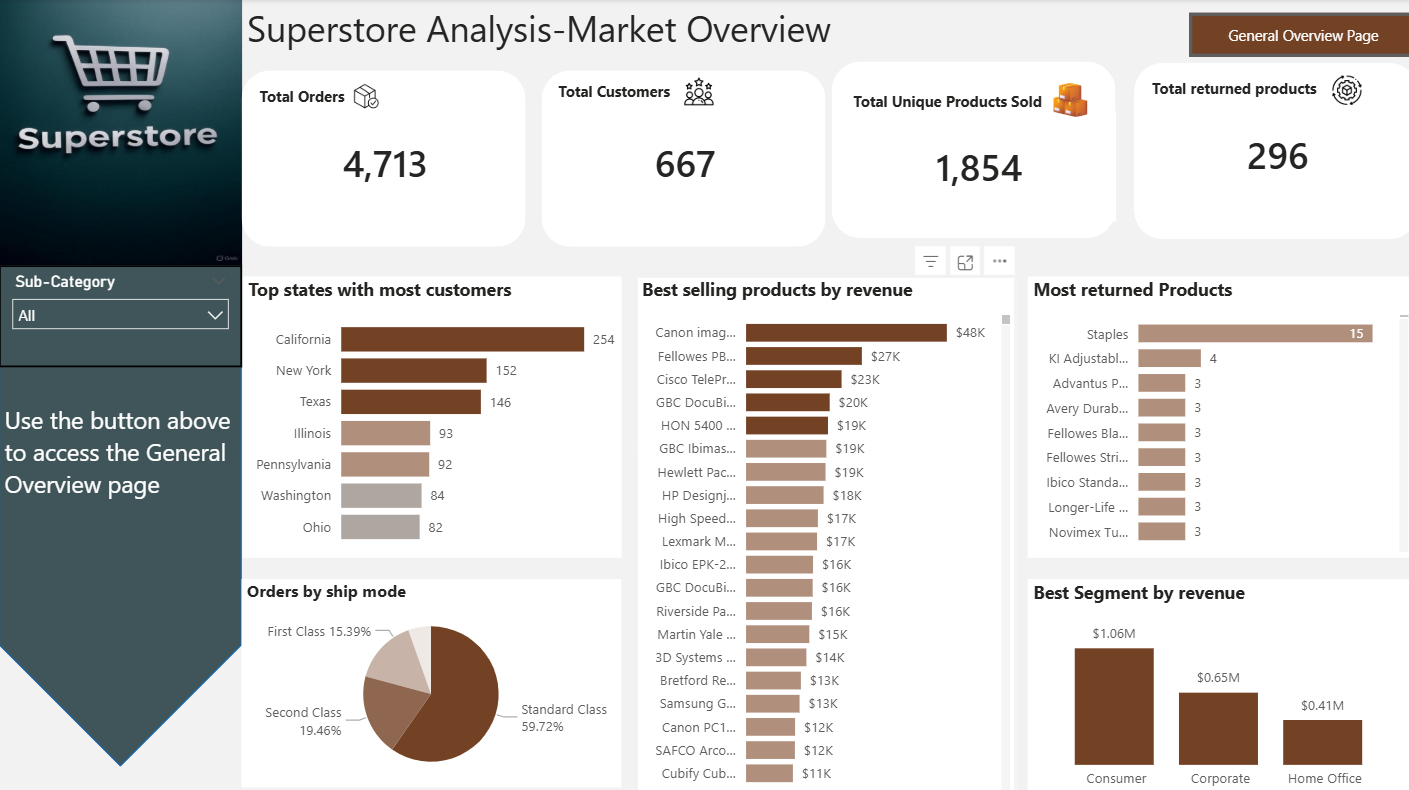

The page's visual inventory and layout, read from the dashboard file:
{"tool":"powerbi","page":{"name":"Market Analysis","canvas":[1280,720],"ordinal":1},"visuals":[{"type":"group","id":"g1","title":"Group 3","box":[0,0,218.6,691.9],"z":0},{"type":"shape","box":[0,0,218.9,692.2],"z":1000,"group":"g1"},{"type":"textbox","box":[218.6,0,557,65.1],"z":1000},{"type":"shape","box":[750.3,56.7,256.3,159.2],"z":2000,"group":"g3"},{"type":"shape","box":[1023.8,57.2,256.3,159.2],"z":2000,"group":"g5"},{"type":"group","id":"g2","title":"Group 1","box":[218.9,64.7,256.3,159.2],"z":2000},{"type":"shape","box":[218.9,64.7,256.3,159.2],"z":2000,"group":"g2"},{"type":"shape","box":[488.9,64.7,256.3,159.2],"z":2000,"group":"g4"},{"type":"group","id":"g3","title":"Group 1","box":[750.3,56.7,256.4,159.2],"z":3000},{"type":"group","id":"g4","title":"Group 1","box":[488.9,64.7,256.3,159.2],"z":4000},{"type":"actionButton","box":[1073.5,12.4,206.5,39.8],"z":5000},{"type":"image","box":[0,0,218.9,240],"z":5001,"group":"g1"},{"type":"textbox","box":[1035.4,66.4,205.3,41.1],"z":6000,"group":"g5"},{"type":"textbox","box":[499.2,69.6,142,45.1],"z":6000,"group":"g4"},{"type":"textbox","box":[230.1,73.4,107,41.1],"z":6000,"group":"g2"},{"type":"textbox","box":[765.5,77.6,205.3,41.1],"z":6000,"group":"g3"},{"type":"clusteredBarChart","title":"Top states with most customers","fields":{"Category":["Orders.State"],"Y":["Orders.Net Customers YTD"]},"box":[219.6,249.7,341.7,253.9],"z":6000},{"type":"card","fields":{"Values":["Orders.Total Returns"]},"box":[1030.4,90.9,246.3,99.5],"z":7000,"group":"g5"},{"type":"card","fields":{"Values":["Orders.Total Orders"]},"box":[225.5,98.4,246.3,99.5],"z":7000,"group":"g2"},{"type":"card","fields":{"Values":["Orders.Net Customers YTD"]},"box":[495.5,98.4,246.3,99.5],"z":7000,"group":"g4"},{"type":"card","fields":{"Values":["Orders.Total Products"]},"box":[760.4,102.1,246.3,99.5],"z":7000,"group":"g3"},{"type":"slicer","fields":{"Values":["Orders.Sub-Category"]},"box":[0,240.1,218.9,92.1],"z":7000},{"type":"clusteredBarChart","title":"Best selling products by revenue","fields":{"Y":["Orders.Net Sales TY"],"Category":["Orders.Product Name"]},"box":[574.7,250,342.1,470.2],"z":8000},{"type":"group","id":"g5","title":"Group 1","box":[1023.8,57.2,256.3,159.2],"z":9000},{"type":"pieChart","title":"Orders by ship mode","fields":{"Category":["Orders.Ship Mode"],"Y":["CountNonNull(Orders.Order ID)"]},"box":[218.9,522.5,342.1,187.8],"z":10000},{"type":"clusteredBarChart","title":"Most returned Products","fields":{"Category":["Orders.Product Name"],"Y":["Orders.Total Returns"]},"box":[928,250,348.3,253.8],"z":11000},{"type":"columnChart","title":"Best Segment by revenue","fields":{"Category":["Orders.Segment"],"Y":["Orders.Net Sales TY"]},"box":[928,522.5,348.3,197.8],"z":12000},{"type":"image","box":[314.7,67.2,33.6,39.8],"z":13000},{"type":"image","box":[607.1,65.9,47.3,36.1],"z":14000},{"type":"image","box":[928,70.9,77.1,39.8],"z":15000},{"type":"image","box":[1190.5,64.7,49.8,36.1],"z":16000},{"type":"textbox","box":[0,359.5,218.9,136.8],"z":17000}]}

Visuals, with their boxes in screenshot pixels (x1, y1, x2, y2), scaled from the page's 1280x720 canvas onto the 1409x790 screenshot:
"Group 3" group: 0/0/241/759
shape: 0/0/241/759
textbox: 241/0/854/71
shape: 826/62/1108/237
shape: 1127/63/1408/237
"Group 1" group: 241/71/523/246
shape: 241/71/523/246
shape: 538/71/820/246
"Group 1" group: 826/62/1108/237
"Group 1" group: 538/71/820/246
actionButton: 1182/14/1408/57
image: 0/0/241/263
textbox: 1140/73/1366/118
textbox: 550/76/706/126
textbox: 253/81/371/126
textbox: 843/85/1069/130
"Top states with most customers" clusteredBarChart: 242/274/618/553
card - Orders.Total Returns: 1134/100/1405/209
card - Orders.Total Orders: 248/108/519/217
card - Orders.Net Customers YTD: 545/108/817/217
card - Orders.Total Products: 837/112/1108/221
slicer - Orders.Sub-Category: 0/263/241/364
"Best selling products by revenue" clusteredBarChart: 633/274/1009/789
"Group 1" group: 1127/63/1408/237
"Orders by ship mode" pieChart: 241/573/618/779
"Most returned Products" clusteredBarChart: 1022/274/1405/553
"Best Segment by revenue" columnChart: 1022/573/1405/789
image: 346/74/383/117
image: 668/72/720/112
image: 1022/78/1106/121
image: 1310/71/1365/111
textbox: 0/394/241/545
